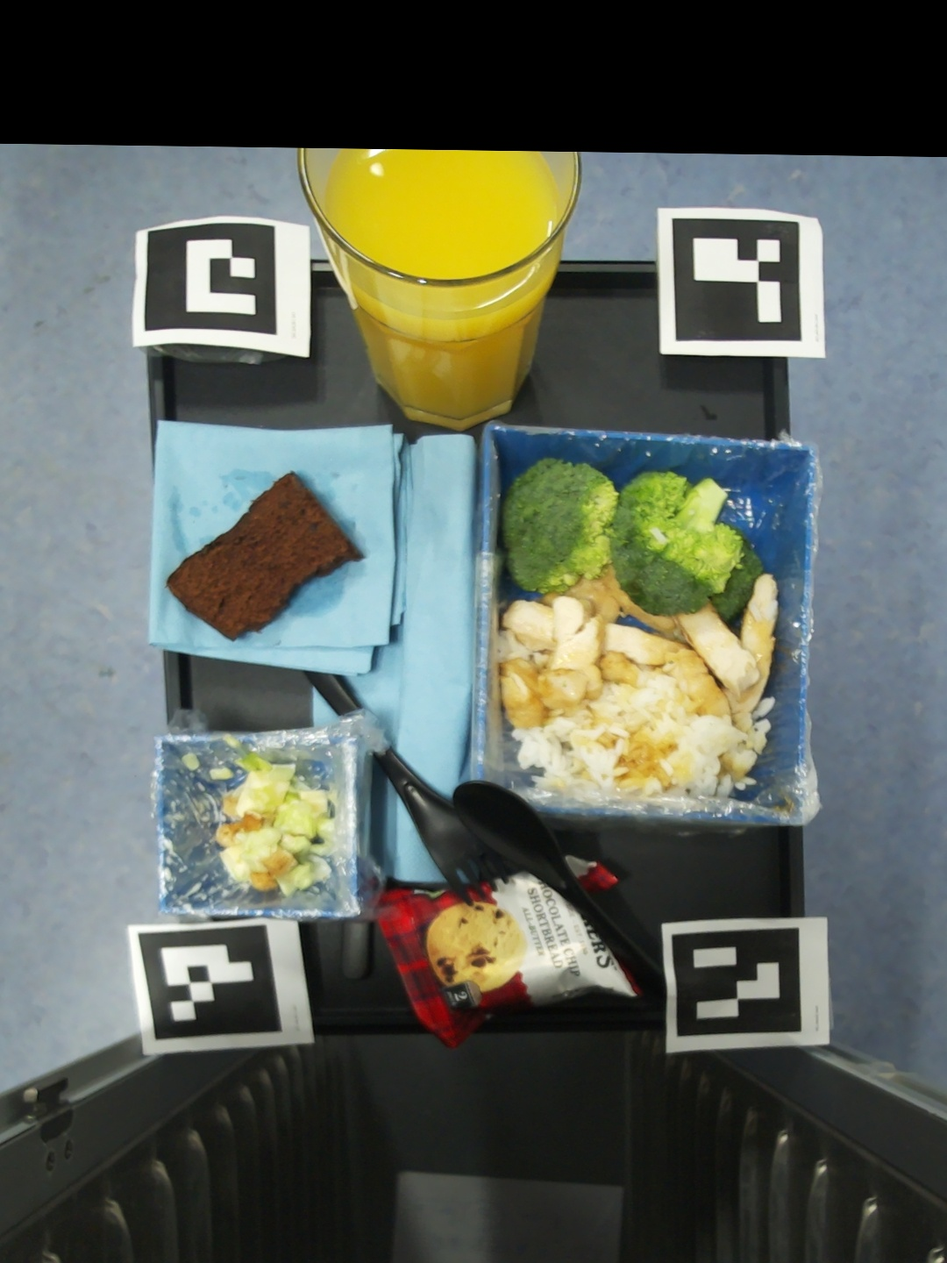broccoli: (500, 457, 765, 623)
brownie: (166, 472, 361, 641)
chicken: (500, 569, 779, 728)
cookie: (376, 855, 643, 1050)
orange_juice_bottle: (298, 148, 581, 431)
rice: (511, 649, 776, 798), (498, 630, 551, 674), (501, 671, 528, 695), (649, 527, 668, 545), (747, 602, 761, 624), (766, 600, 779, 620)
side_salad: (216, 754, 338, 896), (222, 732, 240, 750), (182, 752, 199, 771), (210, 767, 234, 780)
